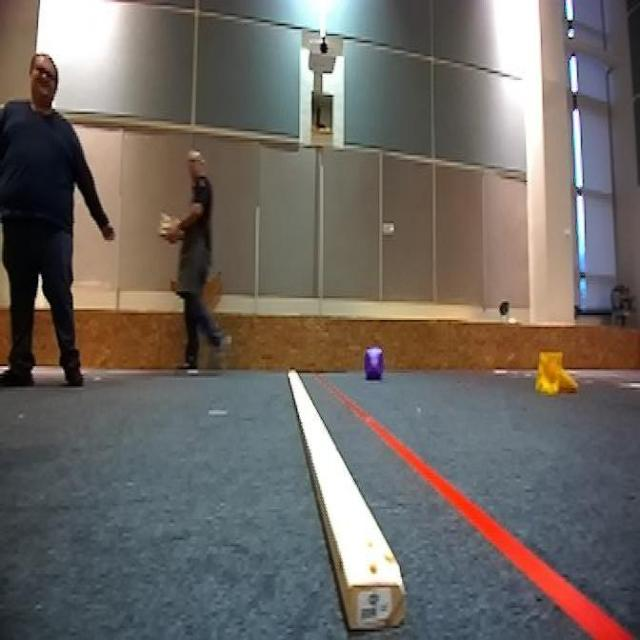frc_cone: (532, 352, 577, 395)
frc_cube: (363, 346, 388, 381)
